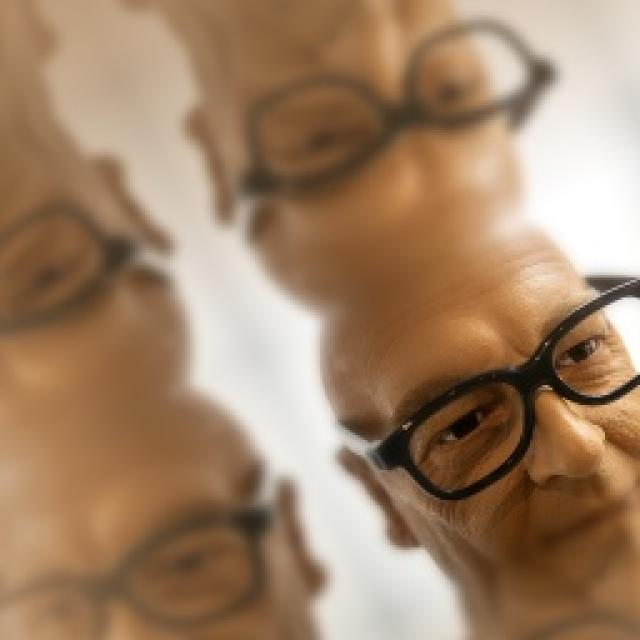glasses: (337, 258, 640, 519), (206, 13, 587, 219), (0, 460, 300, 638), (0, 176, 181, 347)
